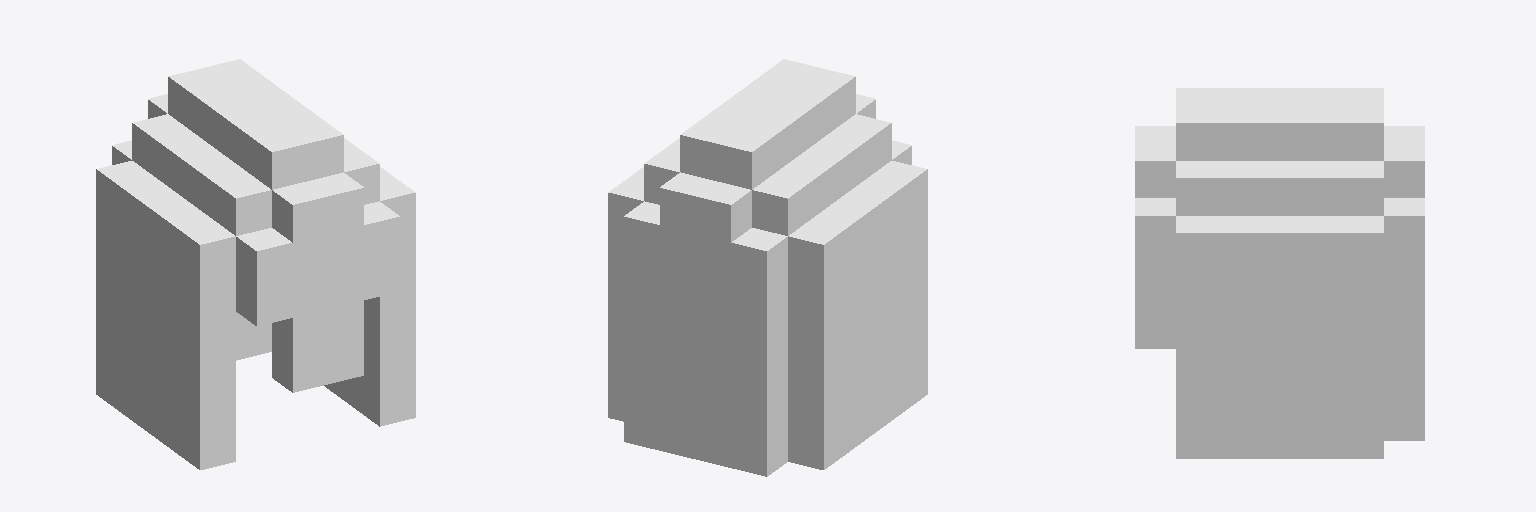
File: char-212-helm_med_1d_ja.obj
3 renders of one model, left to right at view 1: azimuth 30°, elevation 25°; view 2: azimuth 150°, elevation 25°; view 3: azimuth 270°, elevation 25°, orthographic.
Visible parts, largest first — view 1: helm_med_1d_ja; view 2: helm_med_1d_ja; view 3: helm_med_1d_ja.
Part boxes in pixels (left/top/right/bottom): helm_med_1d_ja: left=96, top=59, right=415, bottom=469; helm_med_1d_ja: left=608, top=59, right=927, bottom=476; helm_med_1d_ja: left=1135, top=88, right=1424, bottom=458.
Size of the model in its own units: 0.6 by 0.8 by 0.7.